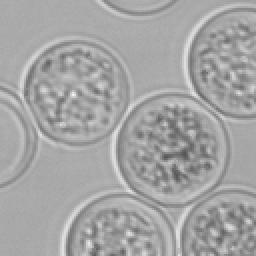picoshell: (112, 90, 228, 204), (18, 34, 132, 148), (182, 4, 254, 116), (60, 190, 174, 254), (178, 184, 254, 254), (0, 82, 38, 190), (94, 0, 176, 18)
